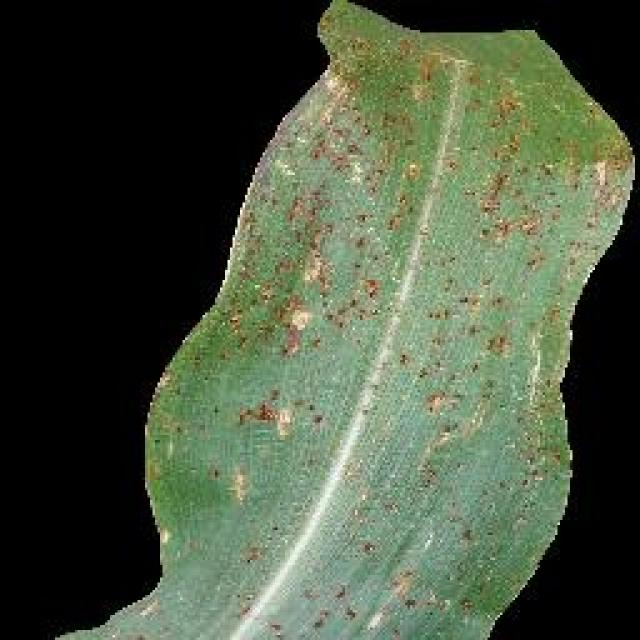Corn Common Rust: (142, 41, 548, 486)
